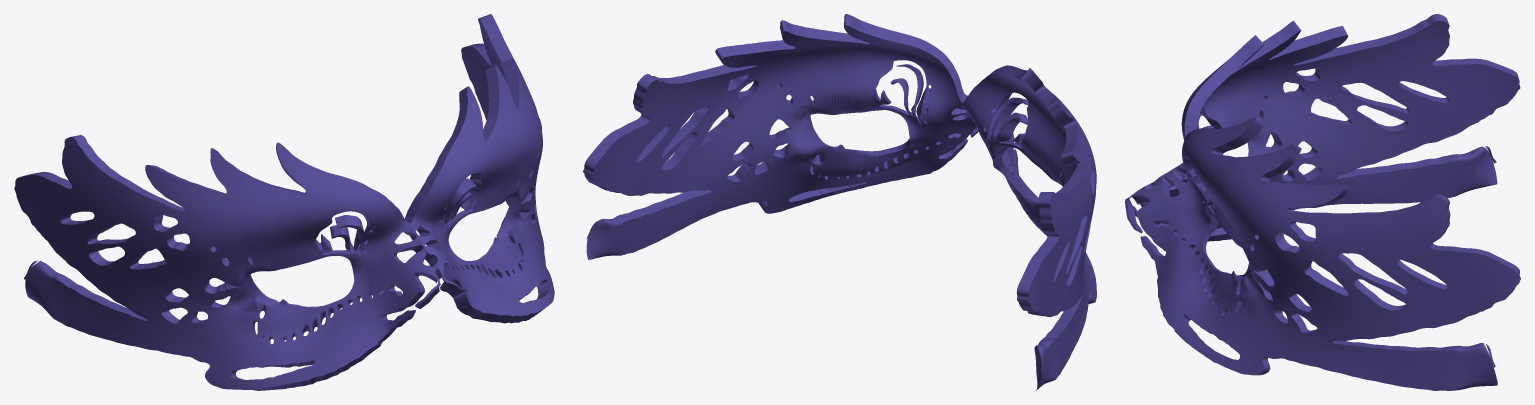
File: Mask2_v2.fbx
3 renders of one model, left to right at view 1: azimuth 30°, elevation 25°; view 2: azimuth 150°, elevation 25°; view 3: azimuth 270°, elevation 25°, orthographic. The views are drawn at different scales.
Visible parts, largest first — view 1: Mask2:Mesh; view 2: Mask2:Mesh; view 3: Mask2:Mesh.
Boxes of the visible parts, x1=… form: Mask2:Mesh: x1=14, y1=14, x2=554, y2=390; Mask2:Mesh: x1=583, y1=14, x2=1096, y2=390; Mask2:Mesh: x1=1125, y1=14, x2=1520, y2=390.
Bounding box in the file's own units: 1.5 × 0.73 × 1.1.
